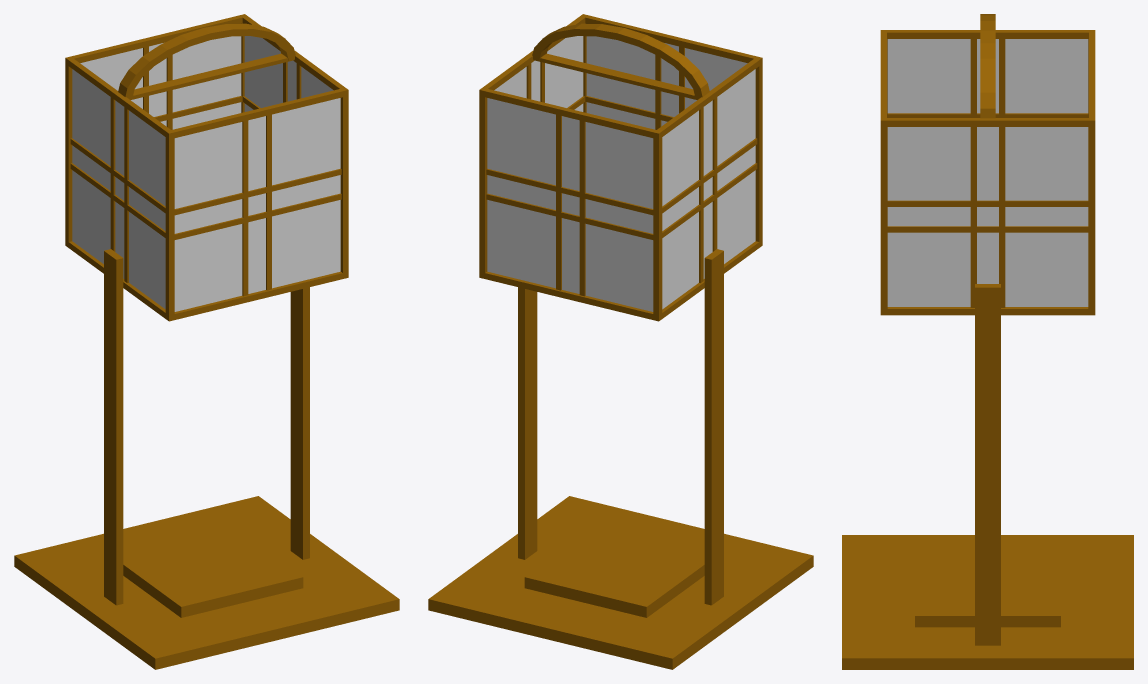
3 renders of one model, left to right at view 1: azimuth 30°, elevation 25°; view 2: azimuth 150°, elevation 25°; view 3: azimuth 270°, elevation 25°, orthographic. The views are drawn at different scales.
Parts seen in each view (by area): view 1: and00; view 2: and00; view 3: and00.
Boxes of the visible parts, <box> form: and00: <box>14,14,399,669</box>; and00: <box>428,14,813,669</box>; and00: <box>842,14,1133,669</box>.
Bounding box in the file's own units: 46.24 × 101 × 46.24.
